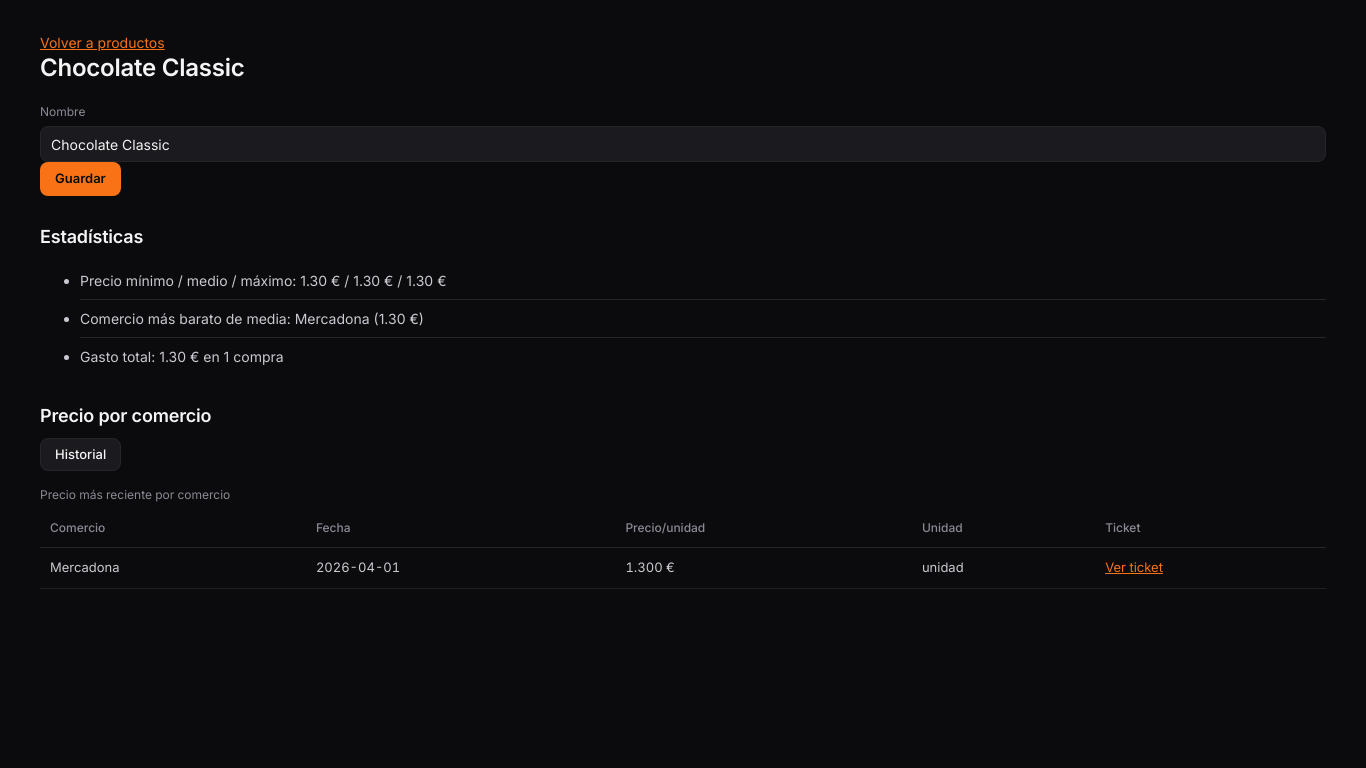
ProductDetailPage › fusionar al renombrar a un duplicado (spec 038, H2) › un 409 con duplicateProductId ofrece fusionar con el producto existente
Check: the heading "Chocolate Classic" is shown, box [40, 53, 244, 82]
Replace the text in the field labelled "Nombre" with "Nachos". click: (683, 144)
box: [40, 126, 1326, 162]
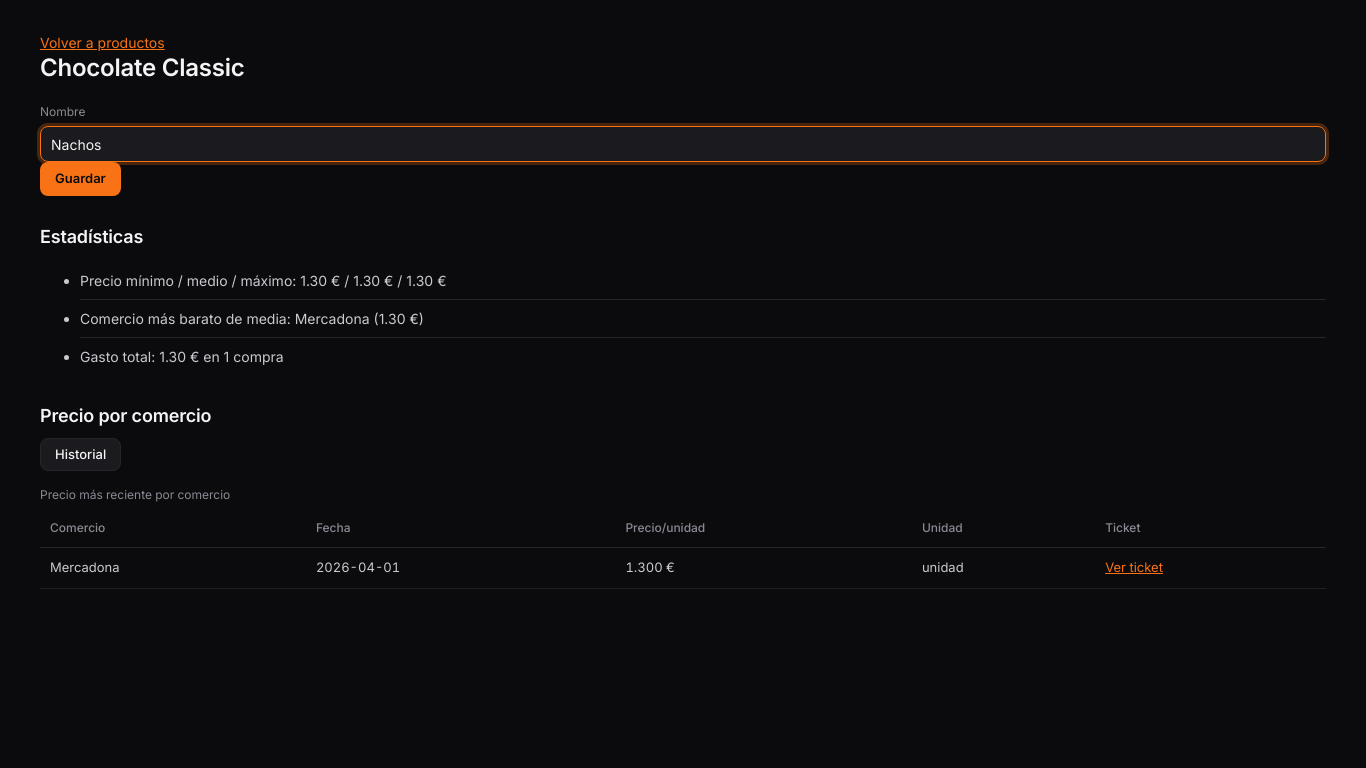
Click the button "Guardar". click: (80, 179)
box: [40, 162, 121, 196]
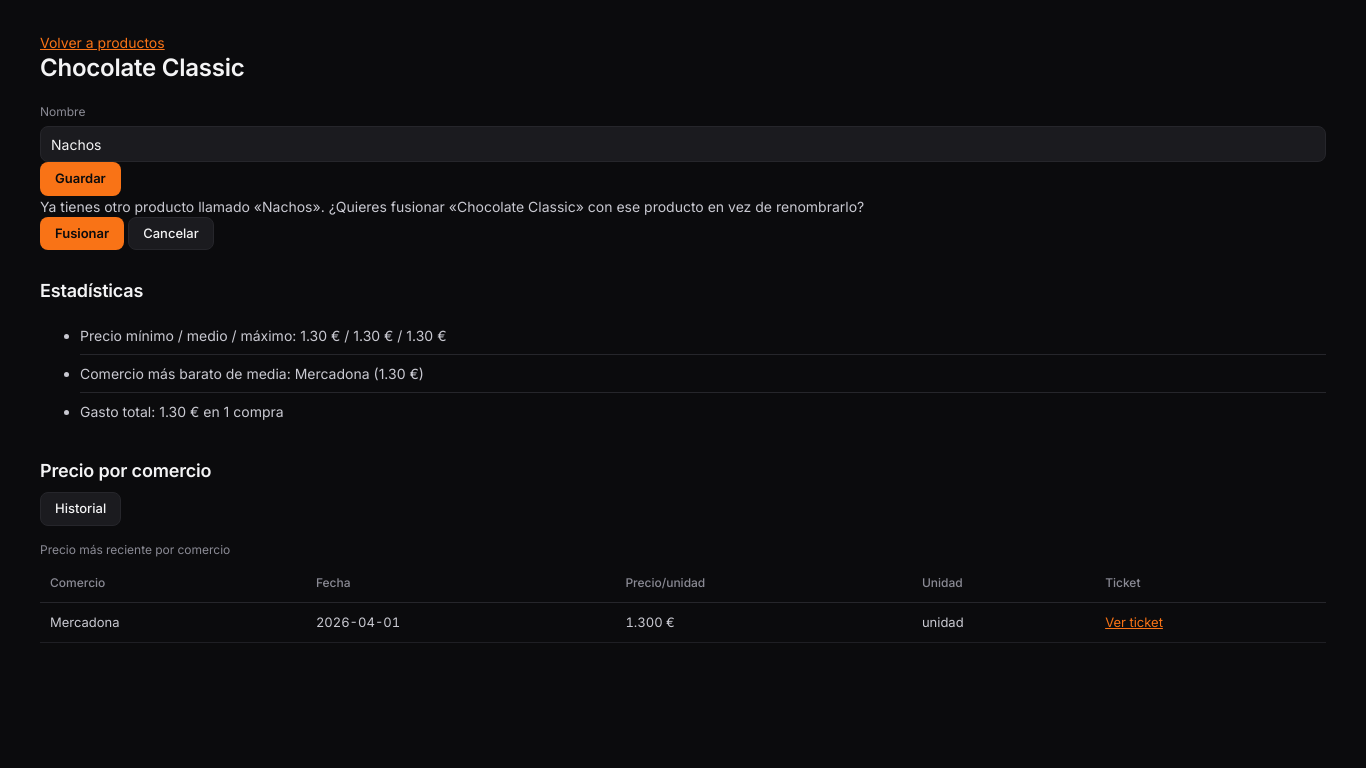
Check: the message shows "Ya tienes otro producto llamado «Nachos»", box [40, 198, 864, 250]
Click the button "Fusionar". click: (82, 233)
box: [40, 217, 124, 250]
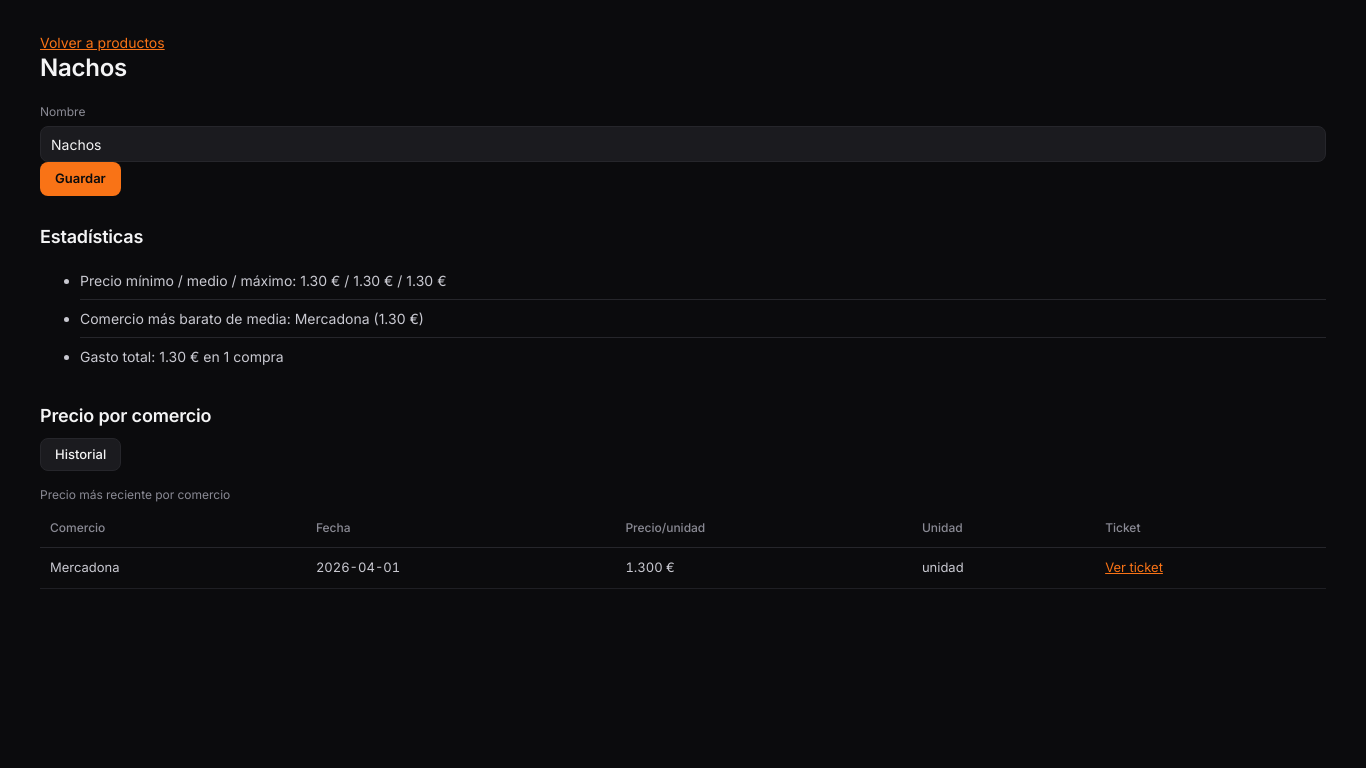
Check: the heading "Nachos" is shown, box [40, 53, 127, 82]
